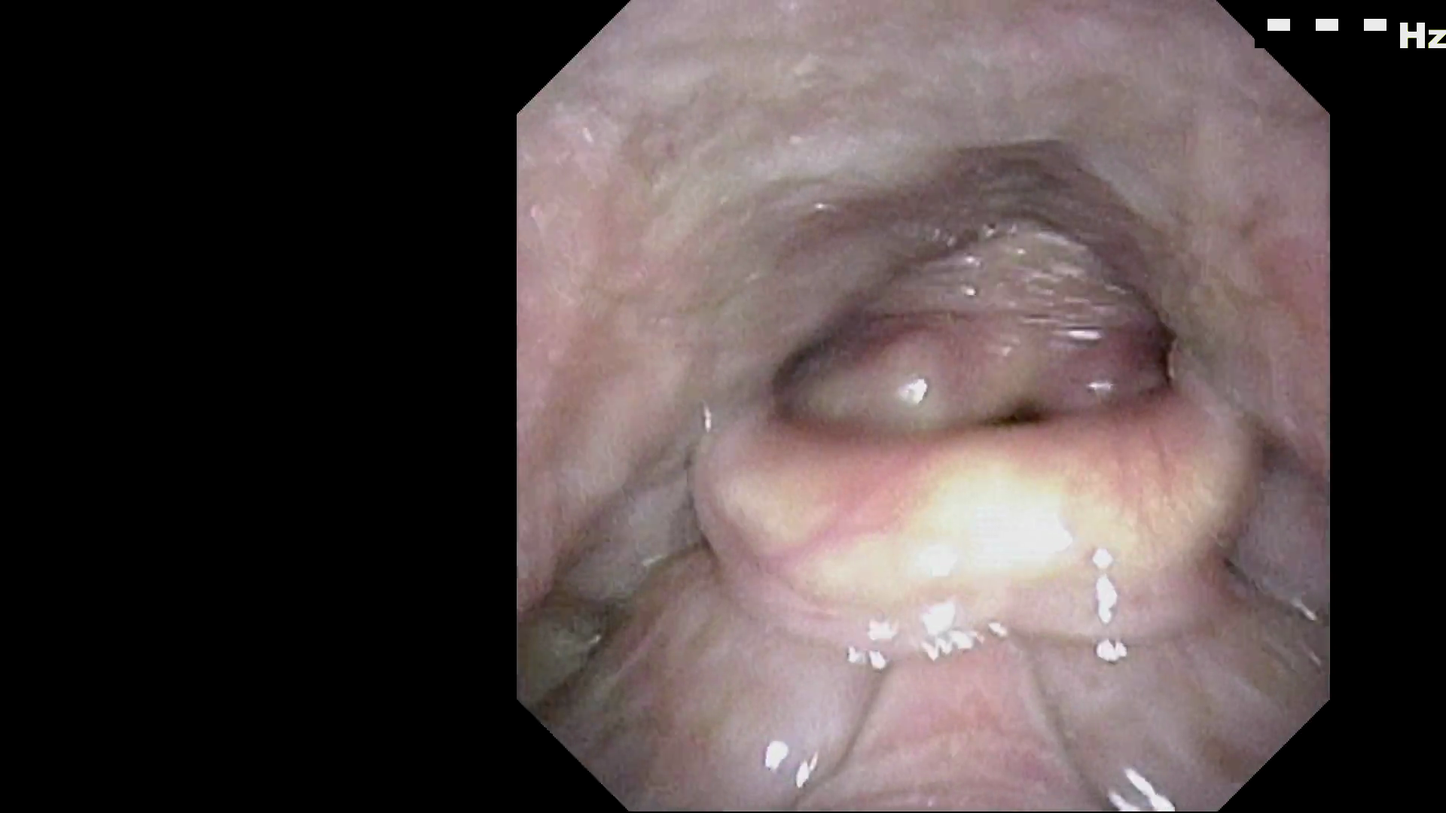epiglottis: (690, 426, 1269, 606)
trachea: (962, 390, 1056, 444)
